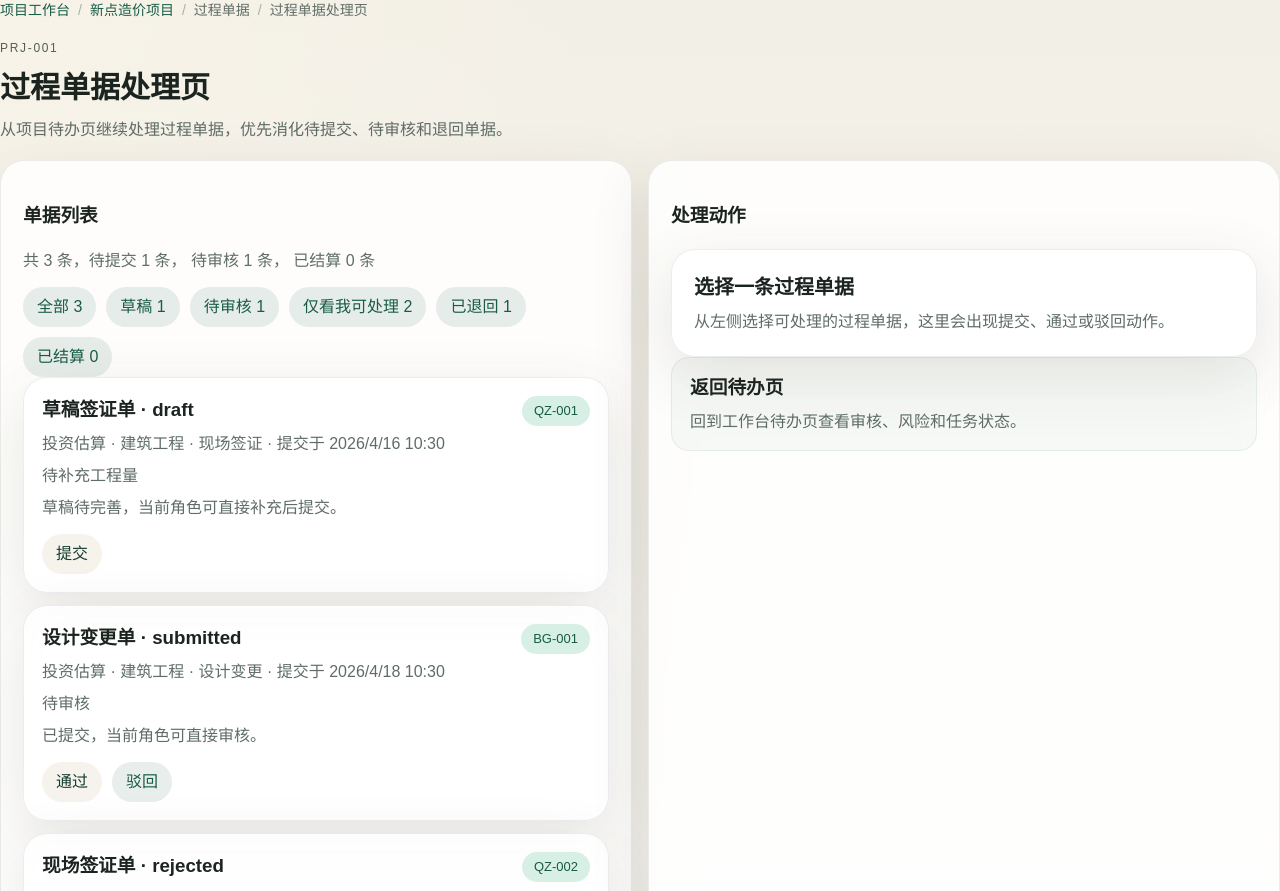
Test: ProjectProcessDocumentsPage › shows process document list summary and supports status filters
Check: the heading "设计变更单 · submitted" is shown, box [42,627,242,648]
Check: the heading "草稿签证单 · draft" is shown, box [42,398,194,420]
Click the button "草稿 1". click: (143,306)
box: [106,286,180,326]
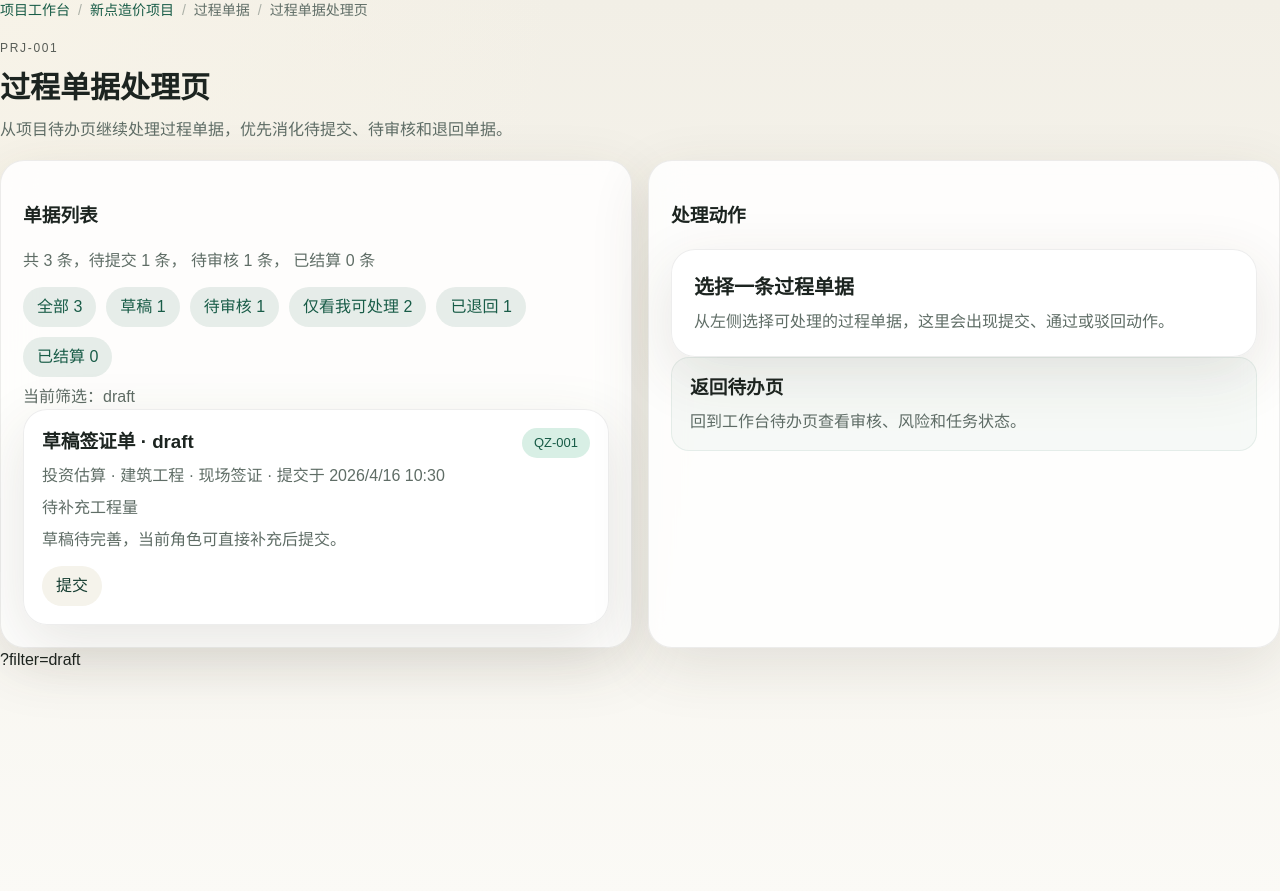
Check: the heading "草稿签证单 · draft" is shown, box [42,430,194,452]
Check: the text with test id "location-search" reads "?filter=draft", box [0,651,80,668]
Check: the heading "设计变更单 · submitted" is gone
Click the button "待审核 1". click: (234,306)
box: [190,286,279,326]
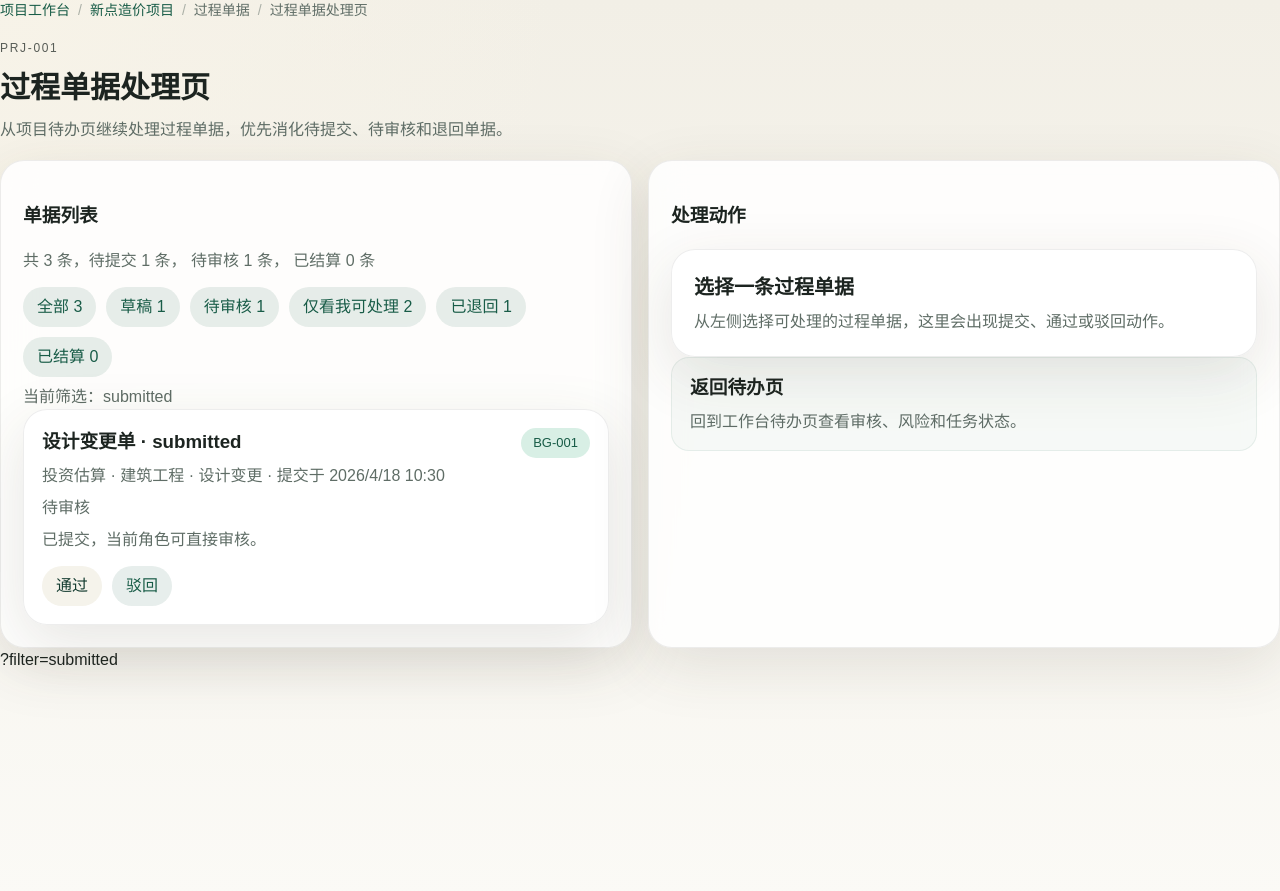
Check: the heading "现场签证单 · rejected" is not shown
Check: the text with test id "location-search" reads "?filter=submitted", box [0,651,118,668]
Check: the heading "设计变更单 · submitted" is shown, box [42,430,242,452]
Click the button "已退回 1". click: (481,306)
box: [436,286,526,326]
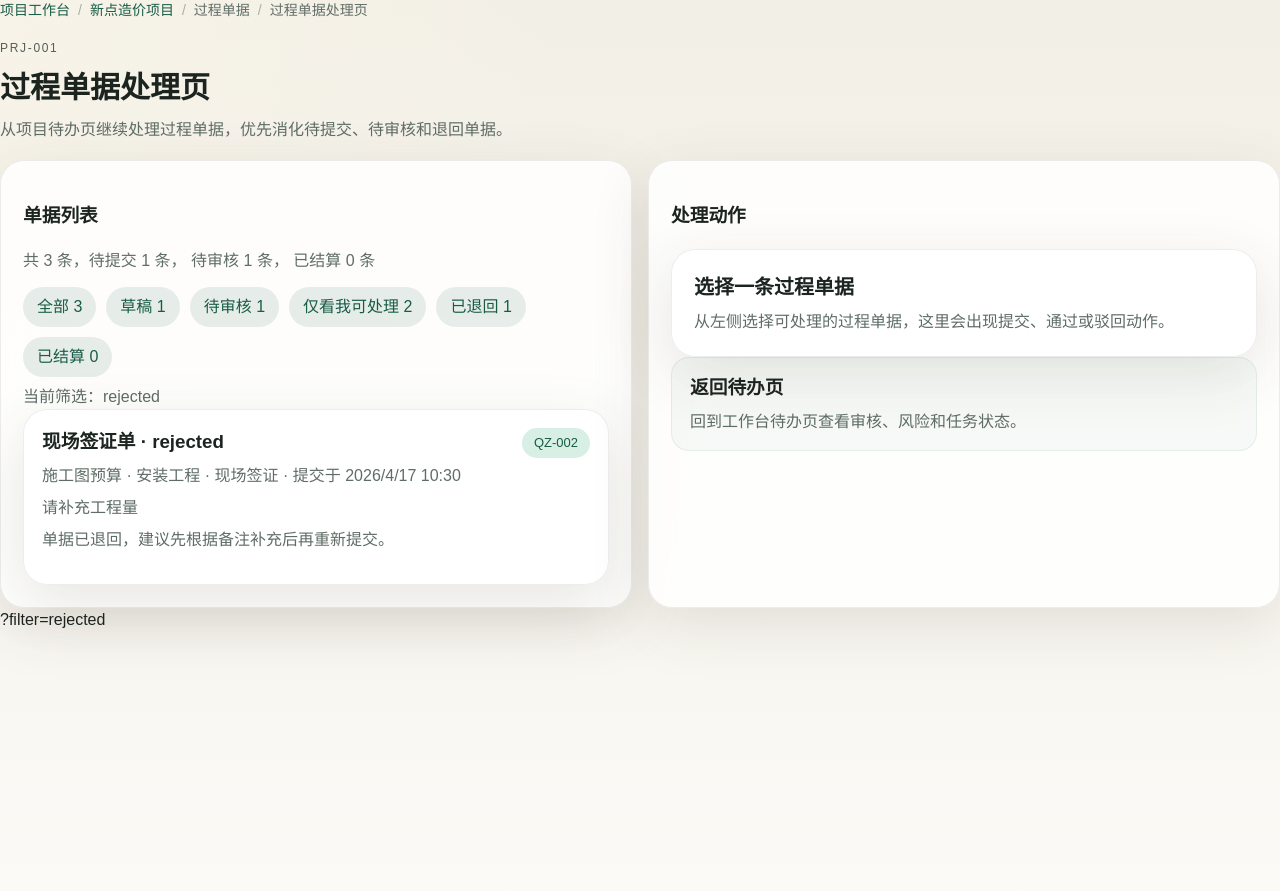
Check: the text with test id "location-search" reads "?filter=rejected", box [0,611,105,628]
Check: the heading "现场签证单 · rejected" is shown, box [42,430,224,452]
